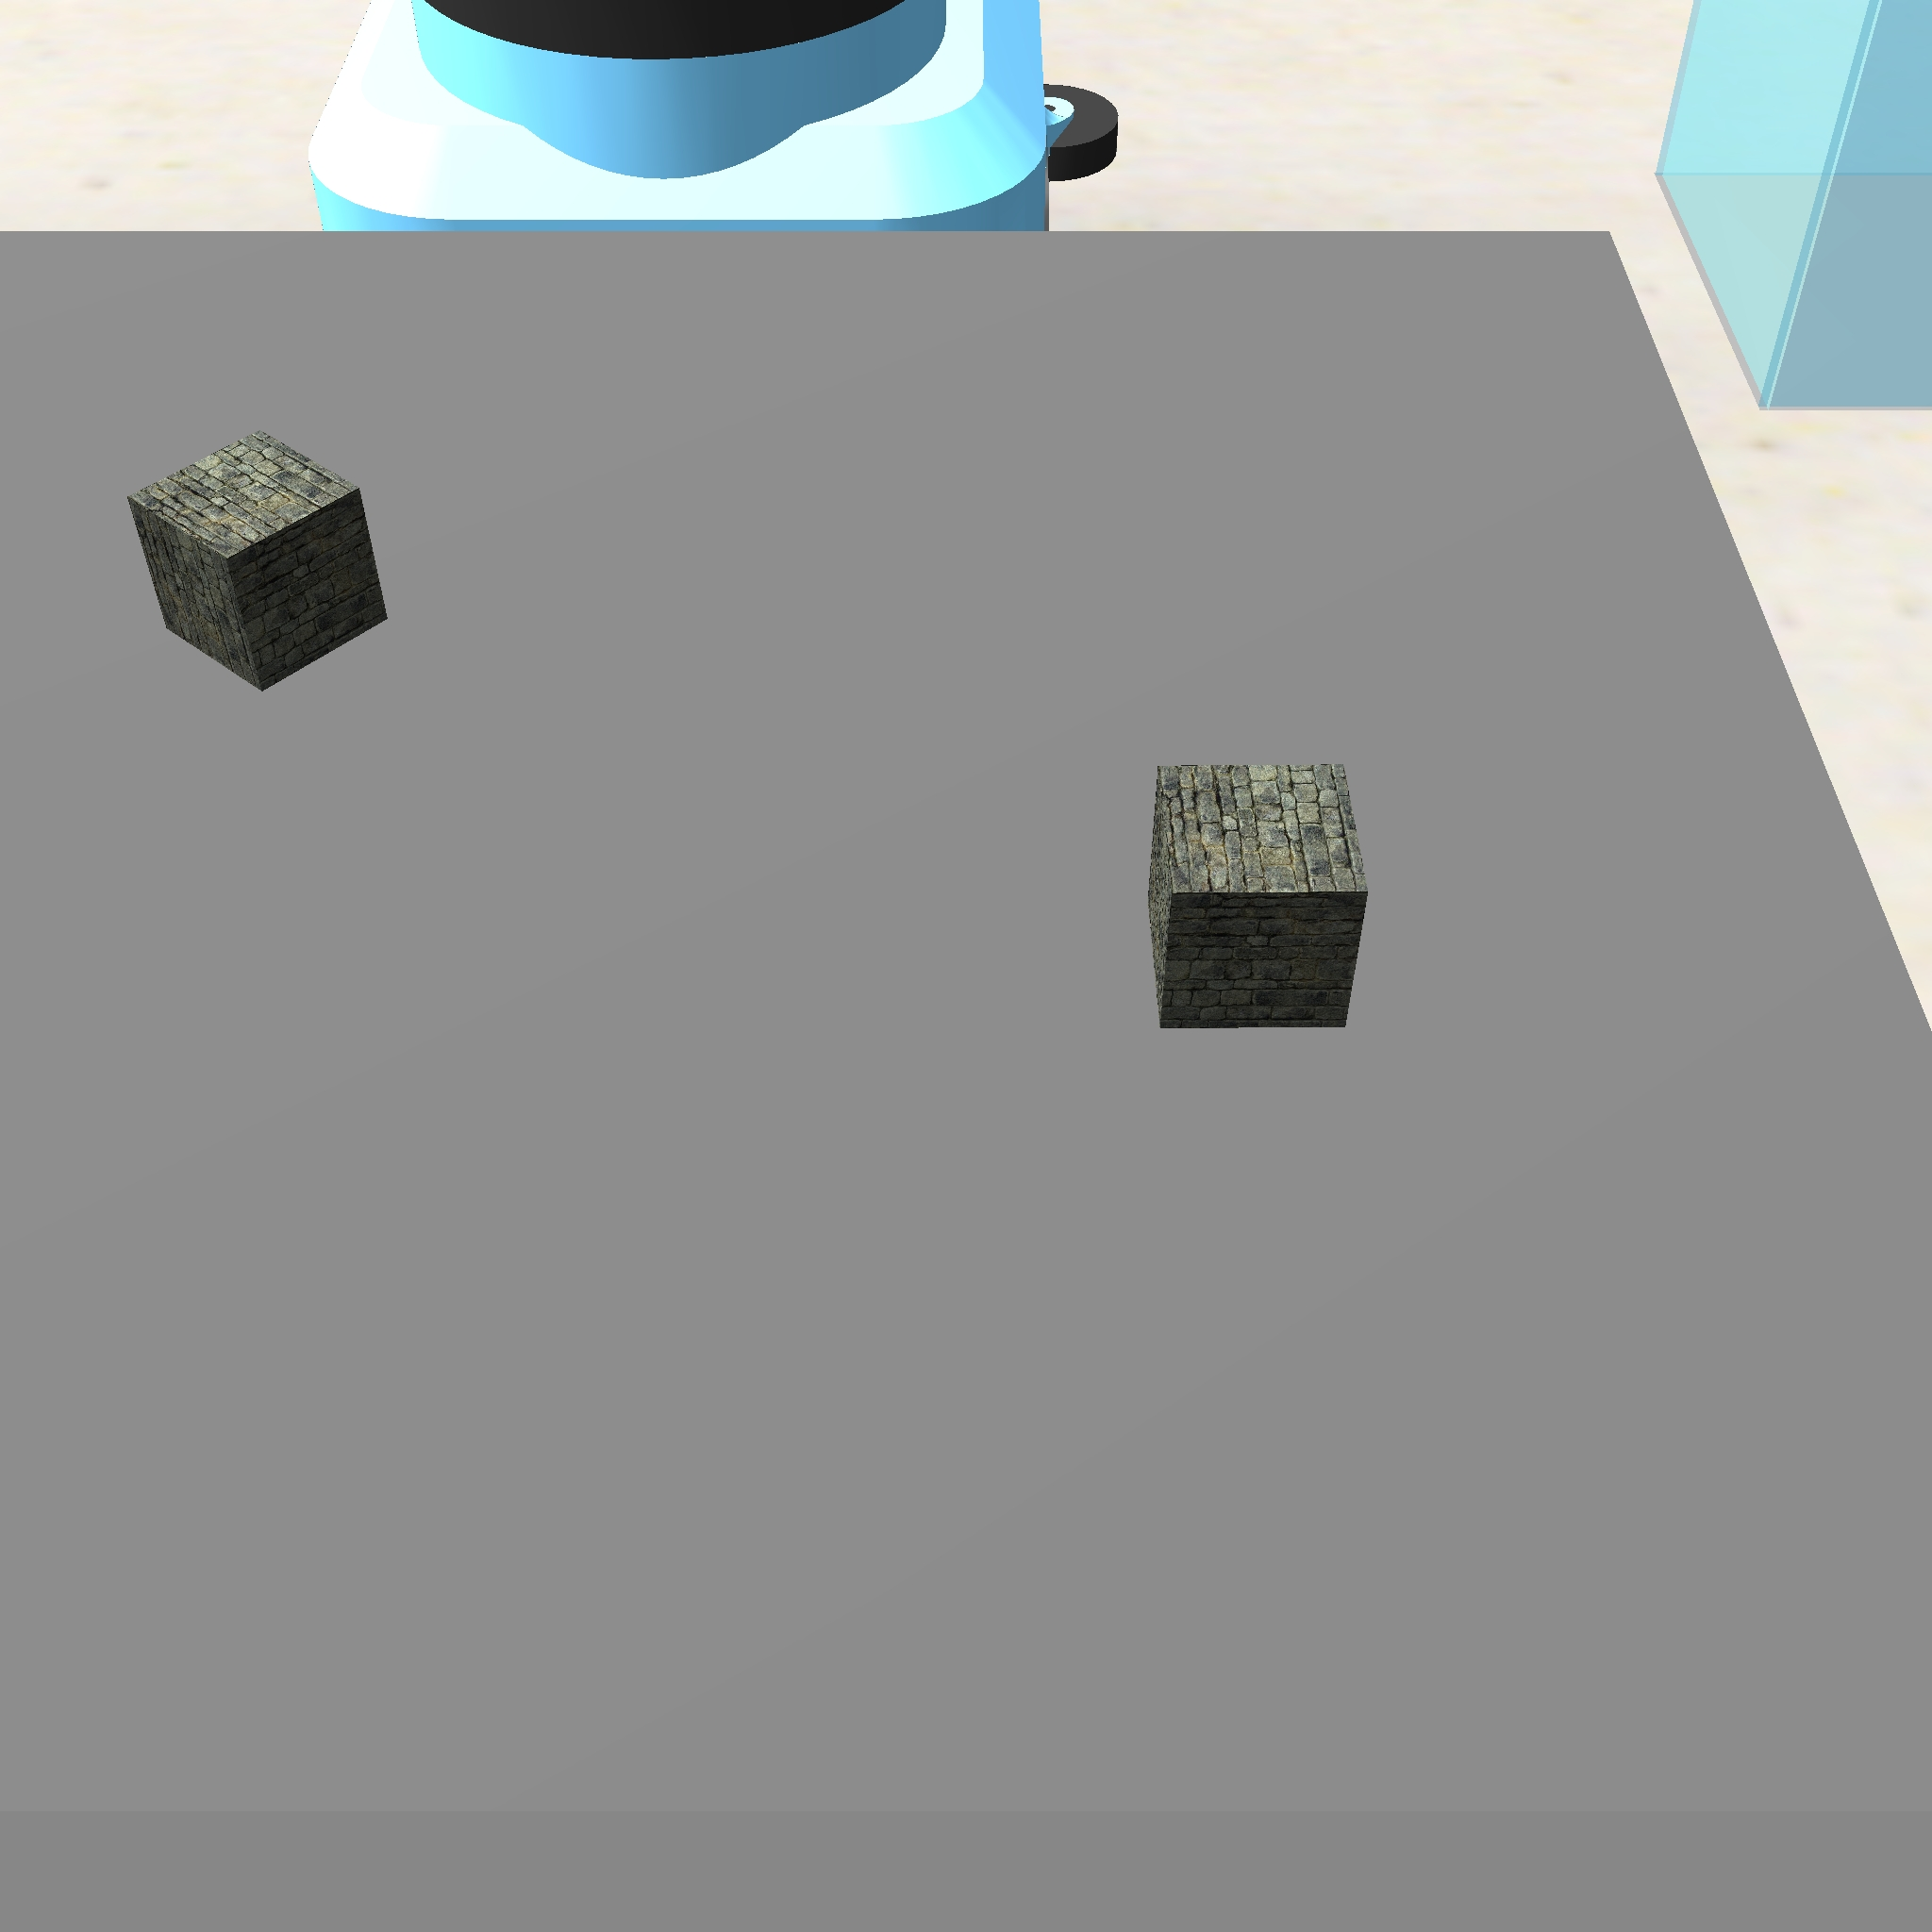cube: (119, 425, 400, 702), (1139, 745, 1376, 1040)
